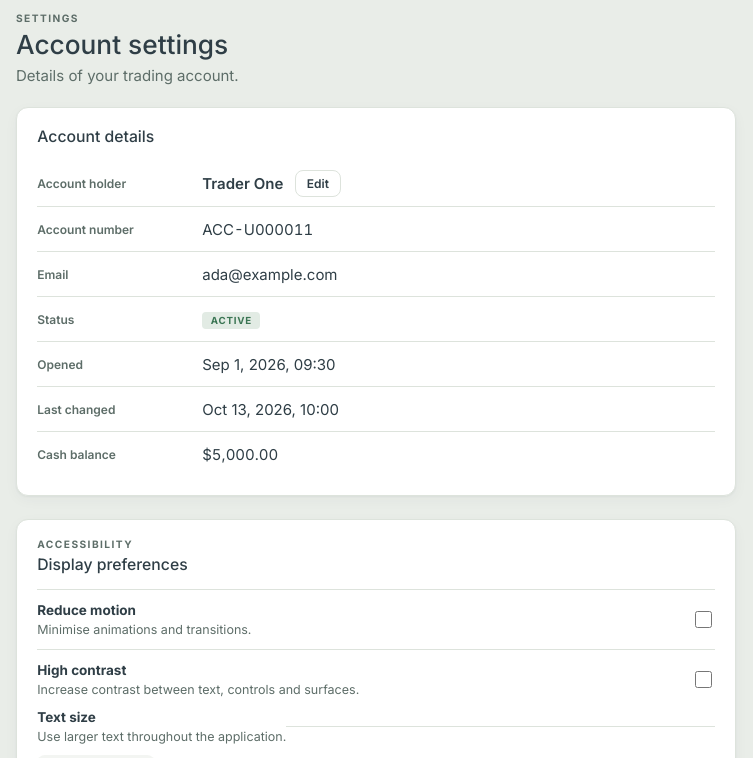
Test: SettingsComponent › cancelling discards the edit
Click the button with class "edit-name": (318, 184) [294,170,341,197]
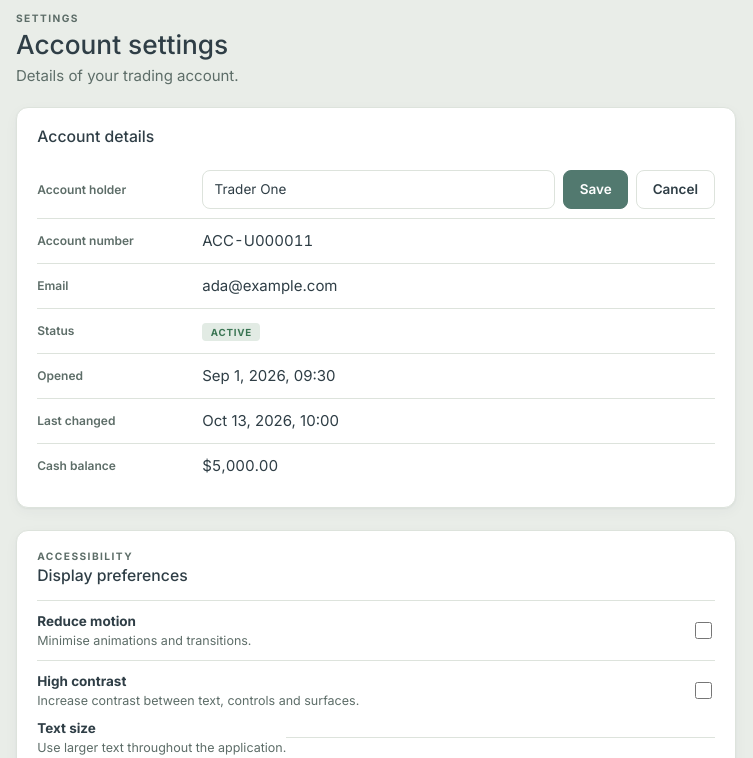
Replace the text in the field with id "holder-name" with "Someone Else": (379, 189) [202,170,556,209]
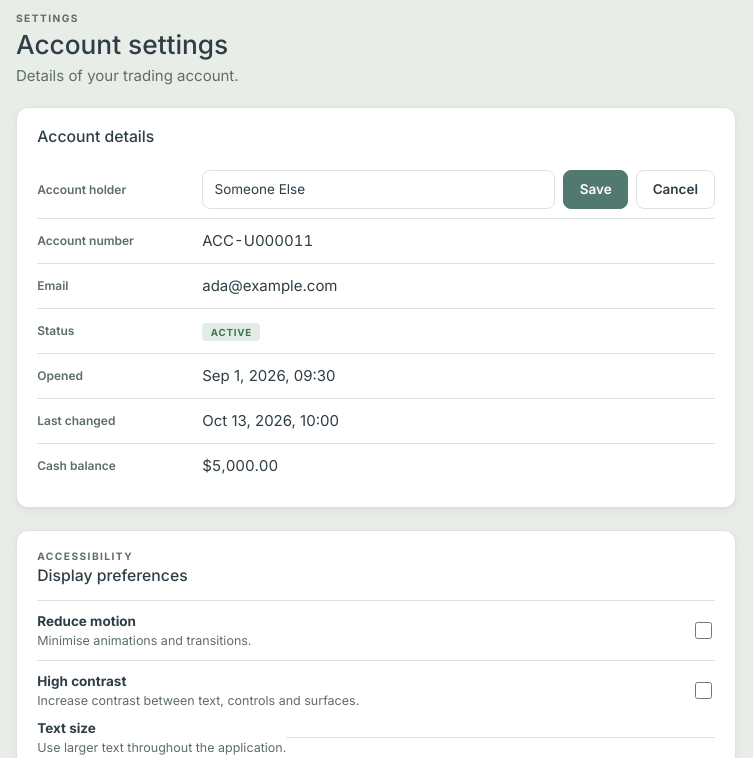
Click the button "Cancel": (675, 189) [636,170,715,209]
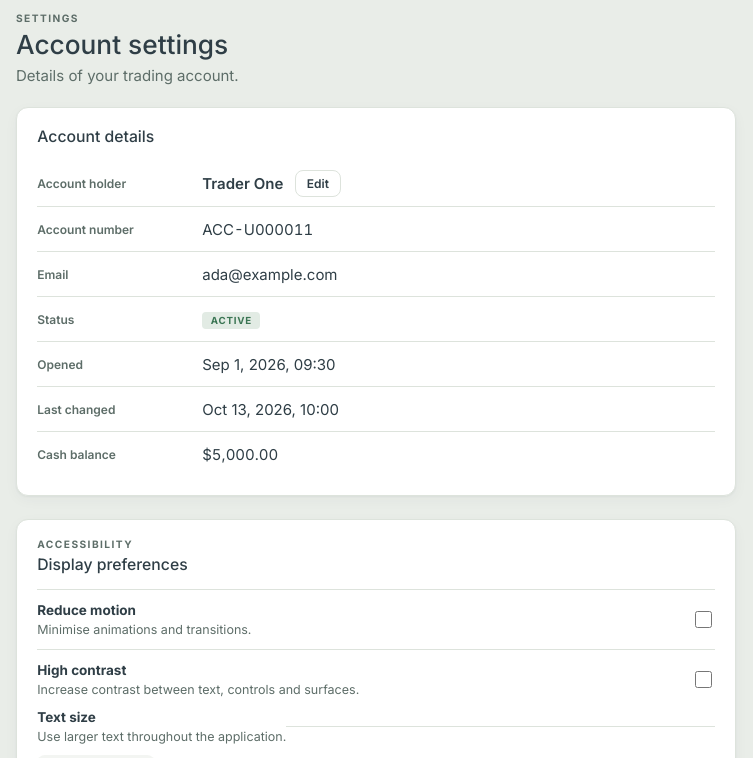
Result: the text with class "holder-name" reads "Trader One" at [202,174,283,193]
